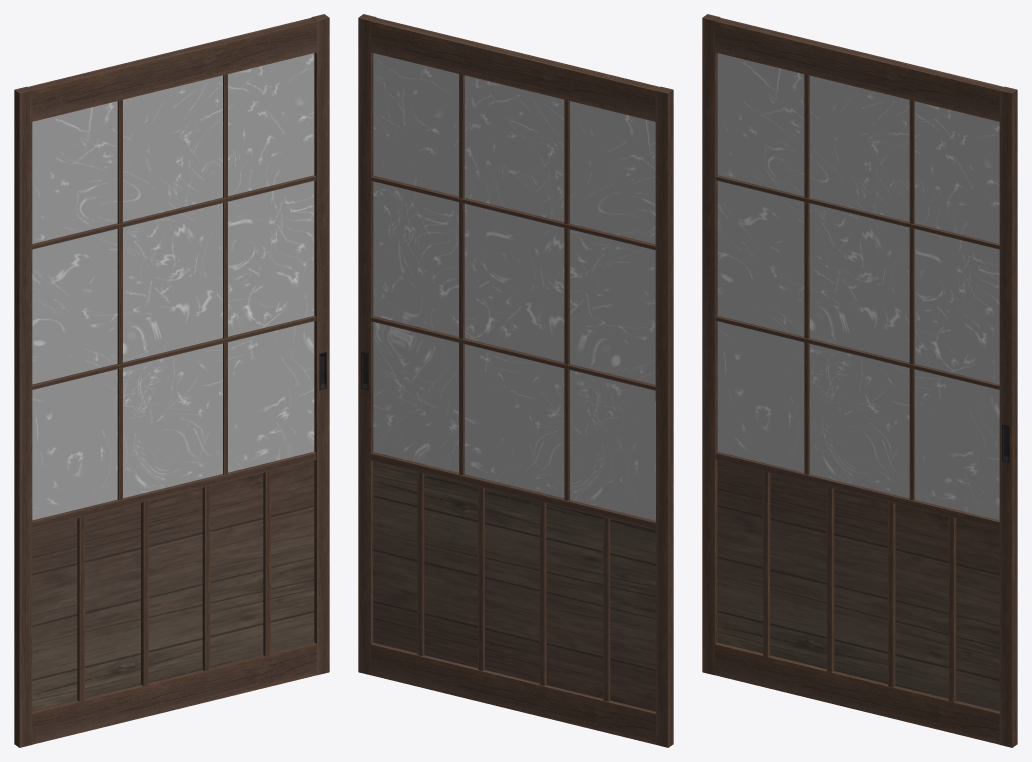
File: hikido03bl.fbx
3 views of the same model, side by side, from view 1: azimuth 30°, elevation 25°; view 2: azimuth 150°, elevation 25°; view 3: azimuth 330°, elevation 25° (orthographic).
Parts seen in each view (by area): view 1: hikido03bl; view 2: hikido03bl; view 3: hikido03bl.
Part boxes in pixels (box(x1,y1,x2,y2)): hikido03bl: box(14, 14, 329, 747); hikido03bl: box(358, 14, 673, 747); hikido03bl: box(702, 14, 1017, 747).
Bounding box in the file's own units: 110 × 221 × 3.37.
